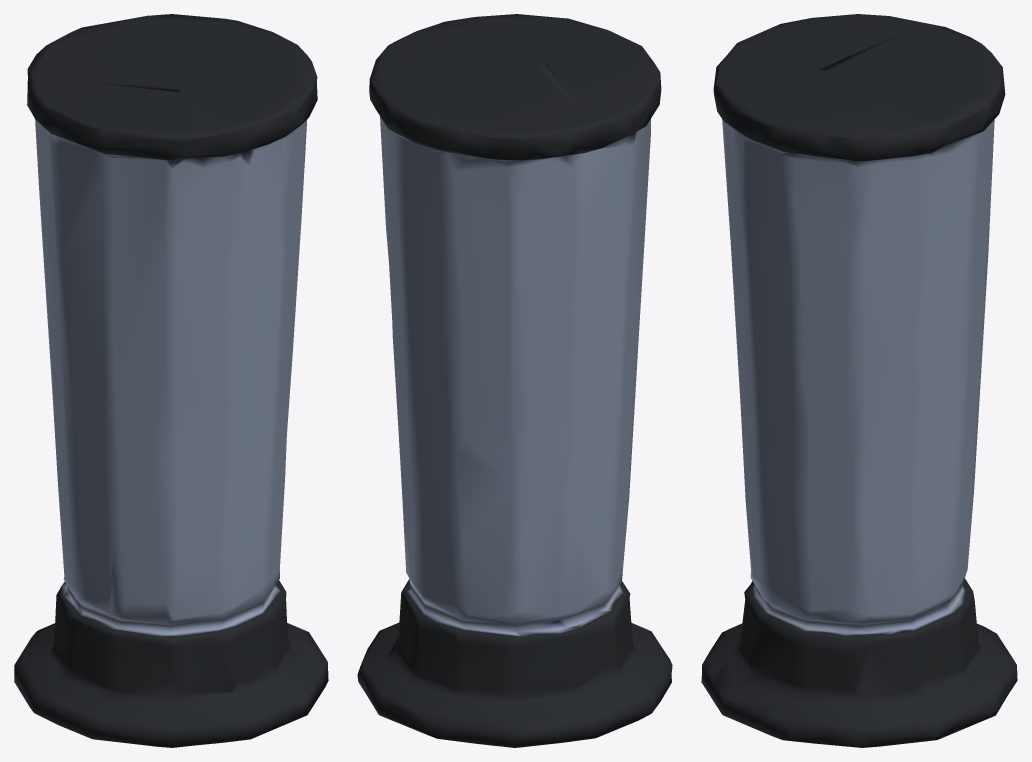
Rendered from gen3d-blender-lod0.glb.
3 views of the same model, side by side, from view 1: azimuth 30°, elevation 25°; view 2: azimuth 150°, elevation 25°; view 3: azimuth 270°, elevation 25° (orthographic).
Visible parts, largest first — view 1: part_0; view 2: part_0; view 3: part_0.
Part boxes in pixels (x1,y1,x2,y2): part_0: (14,14,328,747); part_0: (357,14,672,747); part_0: (701,14,1017,747).
Bounding box in the file's own units: 0.472 × 1 × 0.4712.
